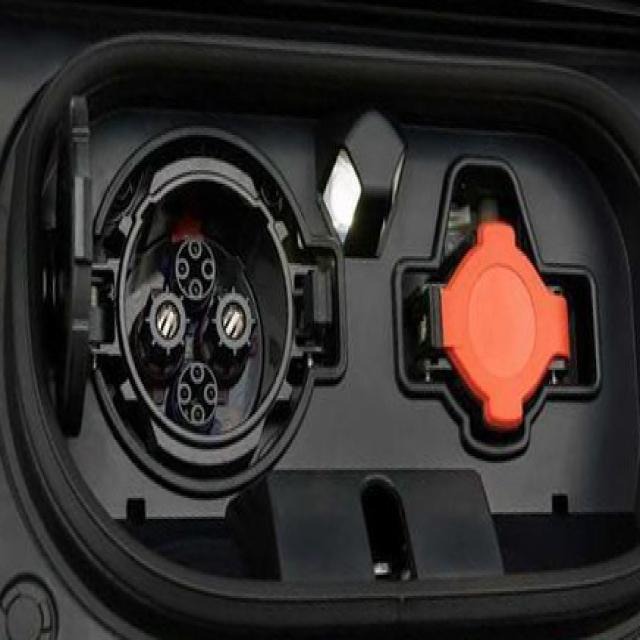CHAdeMO: (103, 154, 346, 506)
